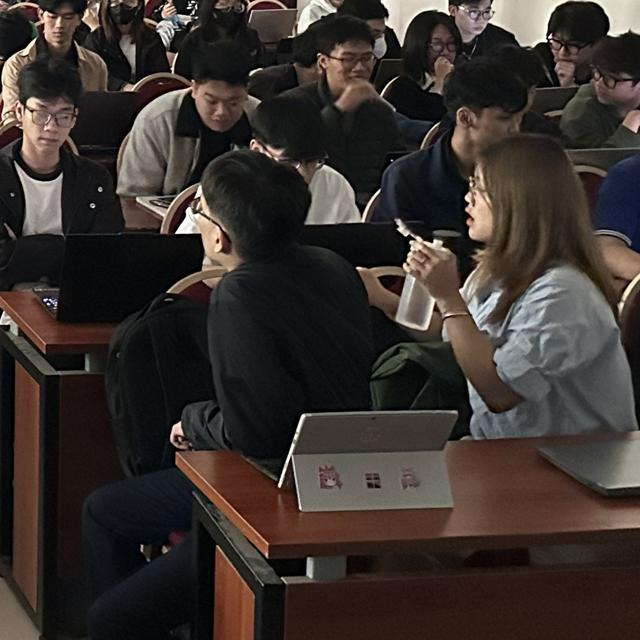Looking away: (184, 37, 254, 134), (452, 67, 528, 156), (260, 99, 339, 181), (16, 66, 80, 164), (548, 0, 610, 81), (318, 25, 384, 96), (406, 11, 461, 92), (594, 39, 640, 119), (442, 1, 496, 52), (44, 0, 89, 58)
Turning around: (186, 148, 377, 450), (464, 134, 637, 438)
